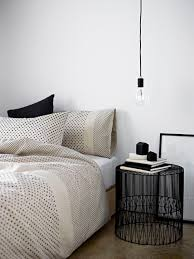bulb: (132, 83, 151, 115)
